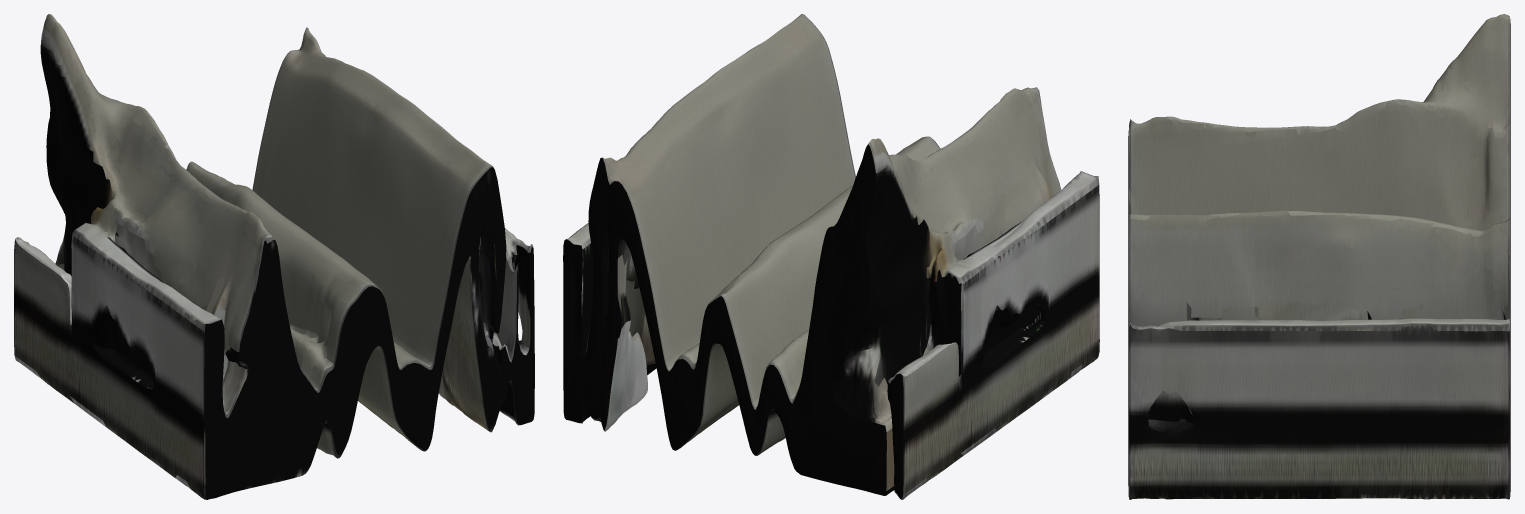
Rendered from debris-metal.glb.
The picture shows the model from 3 angles, left to right: view 1: azimuth 30°, elevation 25°; view 2: azimuth 150°, elevation 25°; view 3: azimuth 270°, elevation 25°; orthographic projection. The views are drawn at different scales.
Visible parts, largest first — view 1: tmpt37u51fc.ply; view 2: tmpt37u51fc.ply; view 3: tmpt37u51fc.ply.
Part boxes in pixels (x1=…): tmpt37u51fc.ply: x1=14, y1=14, x2=534, y2=499; tmpt37u51fc.ply: x1=563, y1=14, x2=1099, y2=499; tmpt37u51fc.ply: x1=1128, y1=14, x2=1510, y2=499.
Bounding box in the file's own units: 1 × 1 × 1.
Materials: 1 (1 with a texture image).
